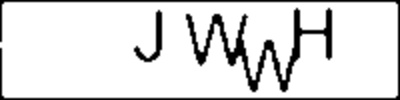H: (289, 5, 336, 63)
J: (131, 5, 165, 66)
W: (182, 9, 250, 68), (237, 41, 304, 95)
